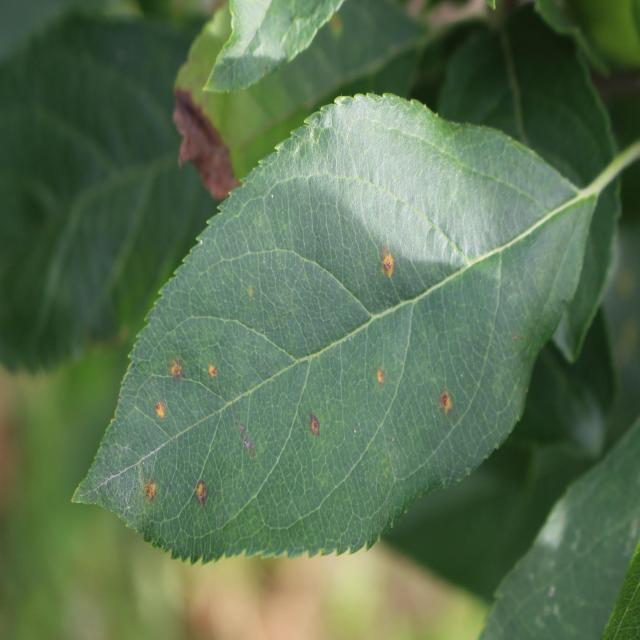Rust: (176, 469, 224, 524), (374, 240, 399, 288), (432, 388, 462, 426), (160, 355, 192, 390), (301, 401, 324, 445), (136, 476, 162, 508), (201, 352, 221, 388), (147, 401, 175, 425), (374, 358, 390, 390)
